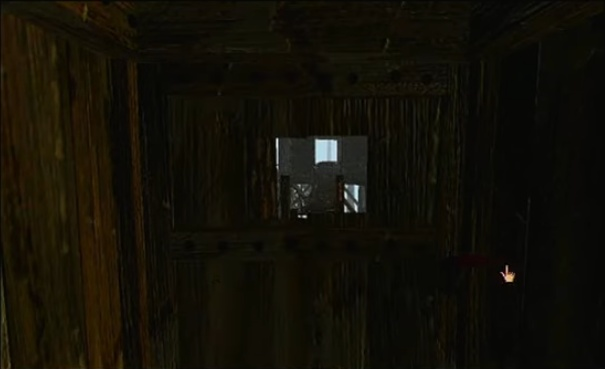Pointer: (497, 260, 520, 285)
